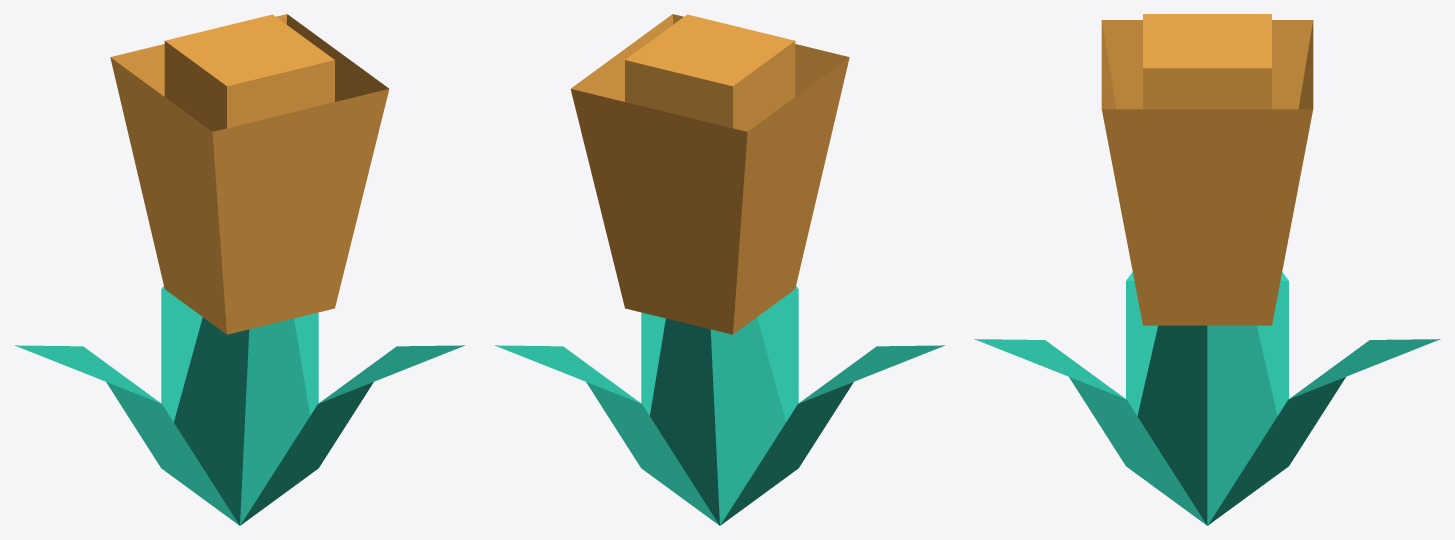
The model's file is d_kenney_fleur_jaune.glb.
3 views of the same model, side by side, from view 1: azimuth 30°, elevation 25°; view 2: azimuth 150°, elevation 25°; view 3: azimuth 270°, elevation 25° (orthographic). The views are drawn at different scales.
Parts seen in each view (by area): view 1: d_kenney_fleur_jaune; view 2: d_kenney_fleur_jaune; view 3: d_kenney_fleur_jaune.
Part boxes in pixels (x1,y1,x2,y2): d_kenney_fleur_jaune: (15,14,464,525); d_kenney_fleur_jaune: (495,14,944,525); d_kenney_fleur_jaune: (974,14,1440,525).
Size of the model in its own units: 0.1591 by 0.1925 by 0.1811.
1 material, 1 textured.
